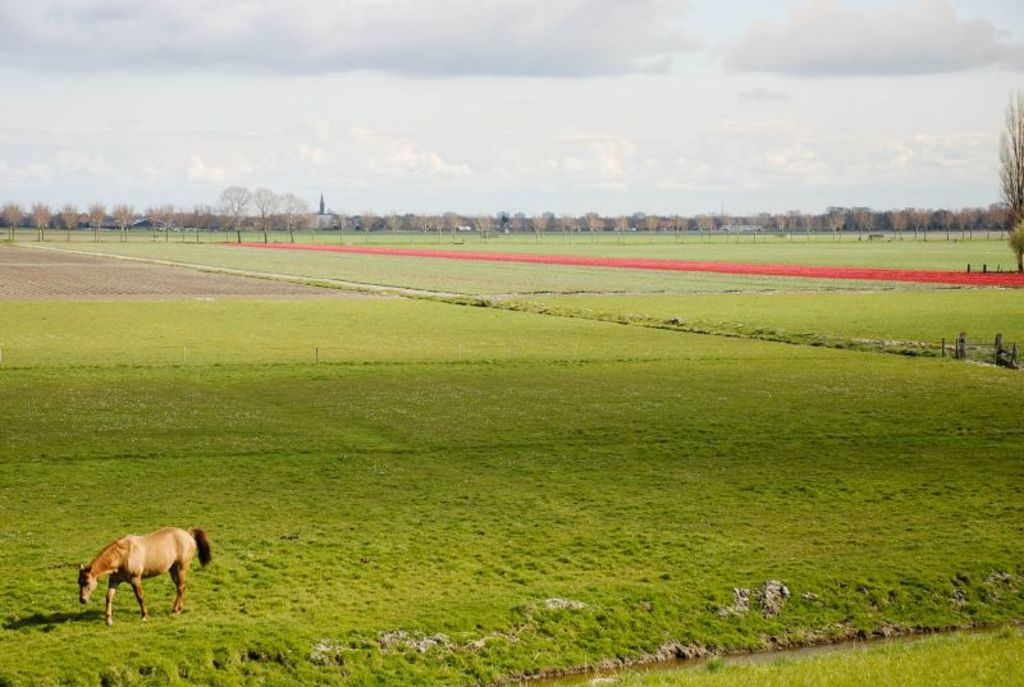horse: (72, 524, 208, 626)
